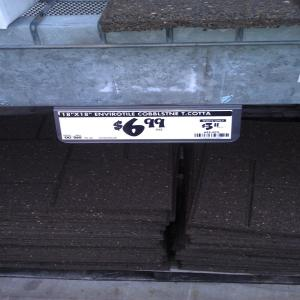Vehicle-registration-plate: (41, 100, 241, 141)
